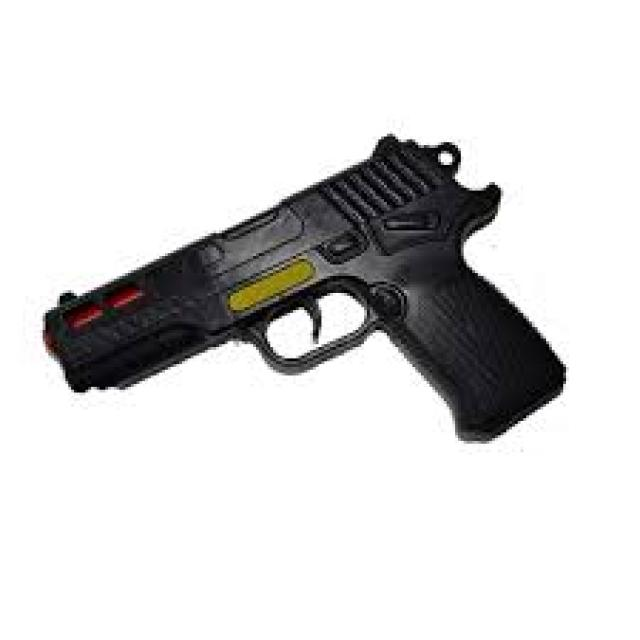pistol: (39, 127, 571, 452)
